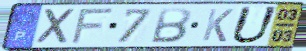7: (116, 7, 154, 45)
B: (148, 7, 193, 44)
F: (69, 7, 117, 46)
K: (200, 7, 236, 43)
U: (228, 5, 281, 45)
X: (34, 7, 79, 46)
